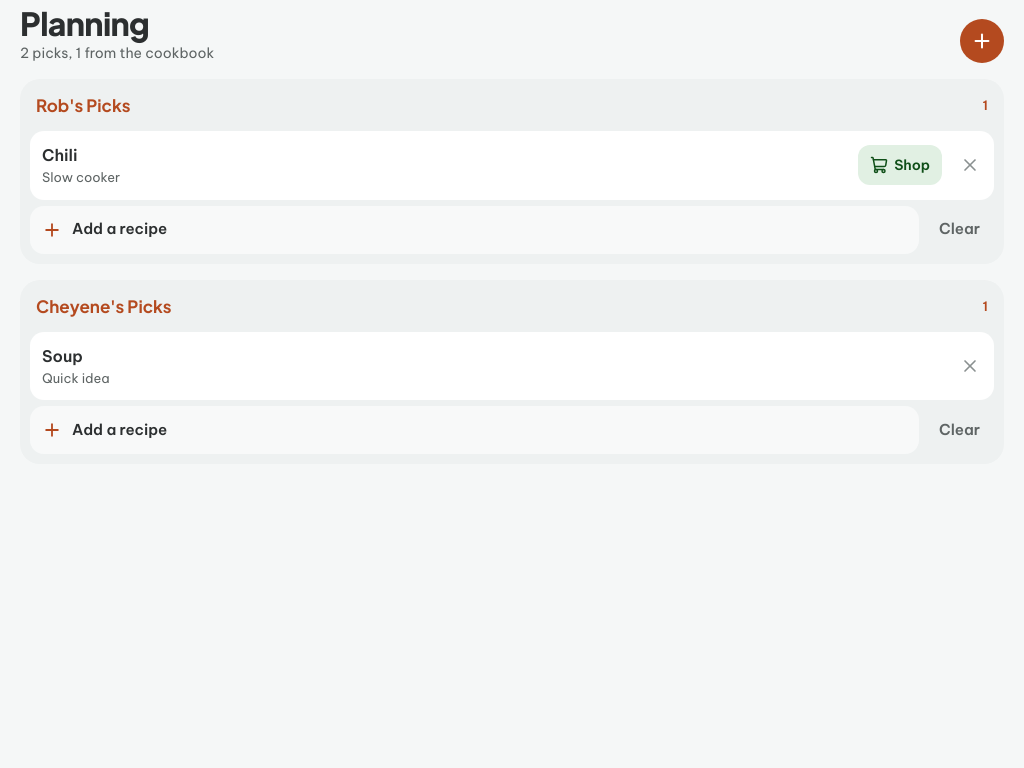
Test case: PlanningPage › the add row opens the sheet for that section and picking a recipe inserts it there
Expected: the text "Chili" is shown, [42,145,78,165]
Click the button with aria-label "Add a recipe to Cheyene's Picks".
click(120, 429)  # box [30,406,919,454]
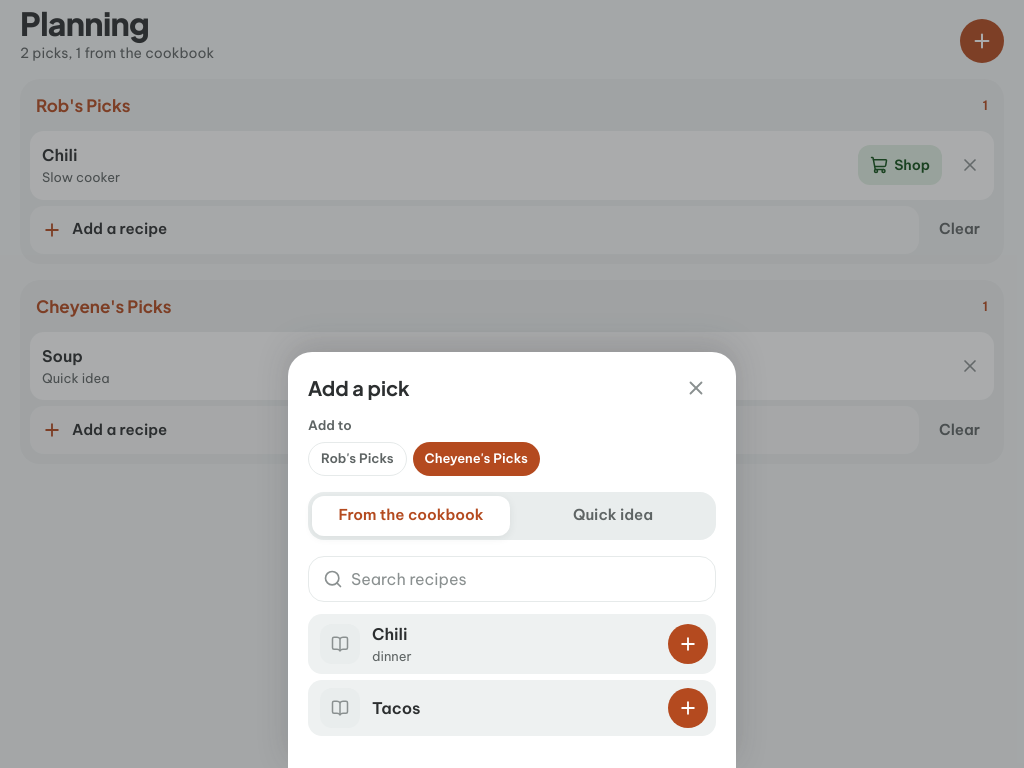
Type "tac" into the search field labelled "Search recipes".
click(529, 578); type("tac")  # box [351,558,707,598]
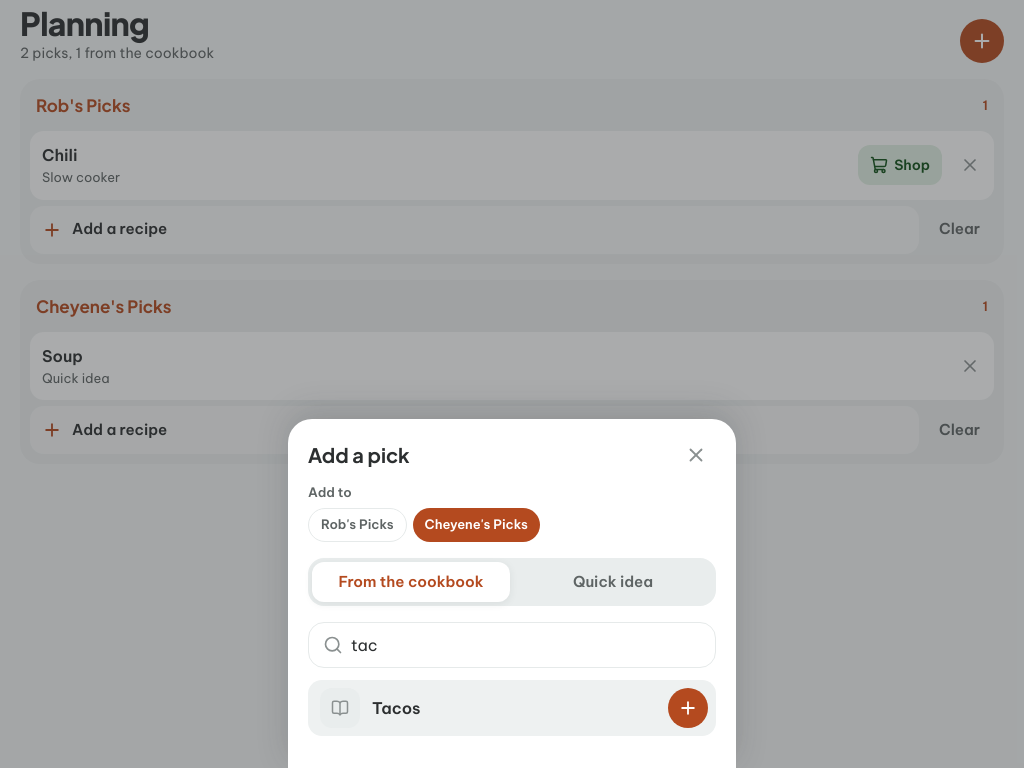
Click the button with aria-label "Add Tacos".
click(340, 708)  # box [308,680,716,736]
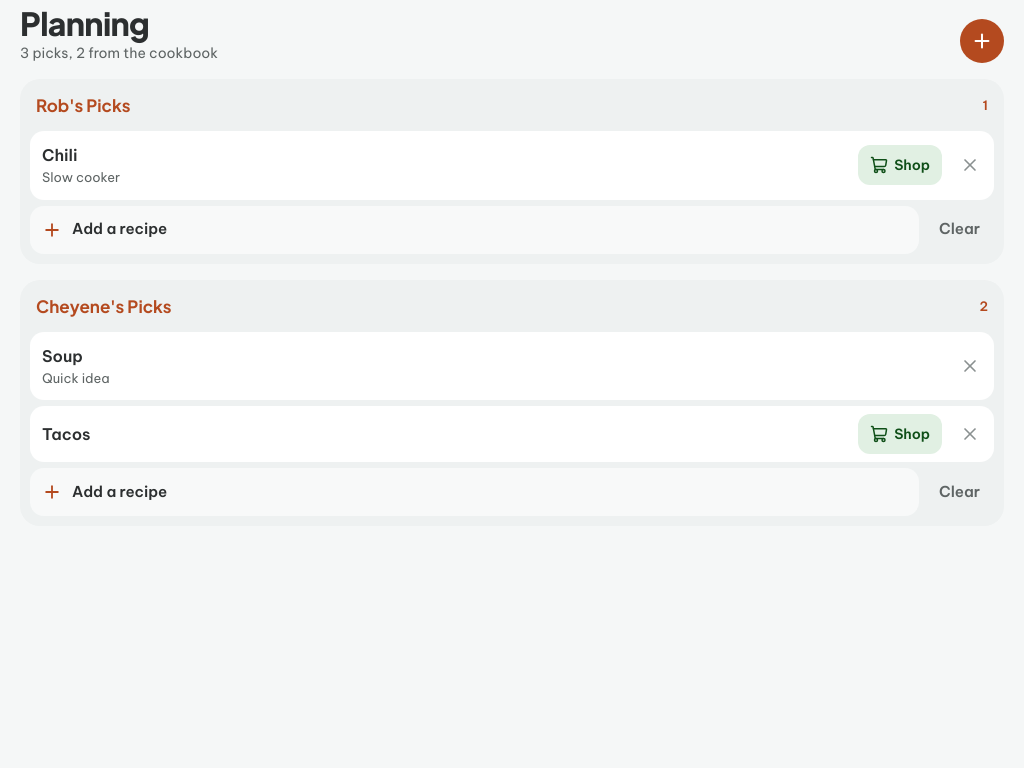
Expected: the text "Tacos" is shown, [42,424,90,444]
Expected: the dialog is gone
